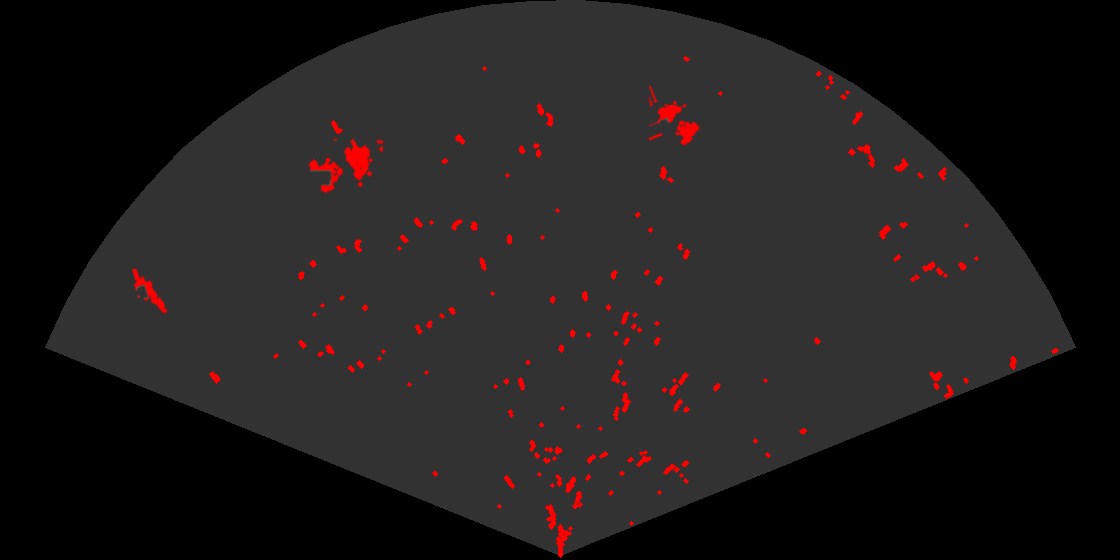cage: (307, 139, 383, 195), (649, 86, 701, 147)
frogman: (130, 269, 170, 321)
